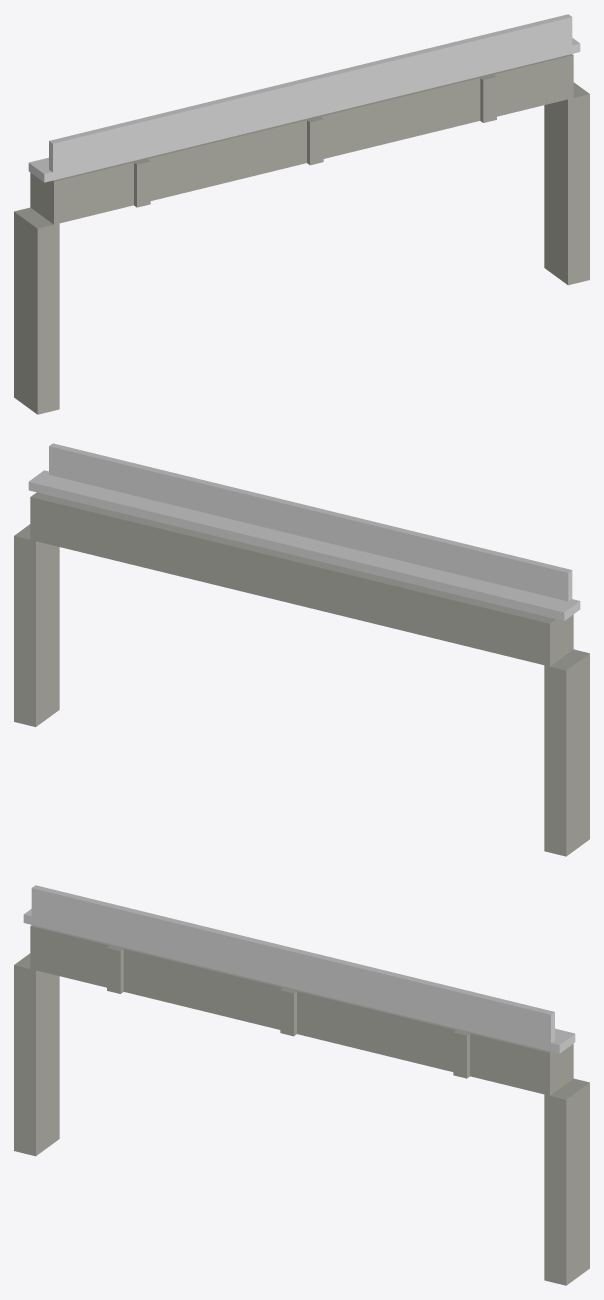
File: SM_MuroTrinchera_Boca_v1_Pilotes_LOD1.fbx
3 views of the same model, one above another, from view 1: azimuth 30°, elevation 25°; view 2: azimuth 150°, elevation 25°; view 3: azimuth 330°, elevation 25° (orthographic).
Visible parts, largest first — view 1: SM_muro_trinchera_v6_LOD1; view 2: SM_muro_trinchera_v6_LOD1; view 3: SM_muro_trinchera_v6_LOD1.
Boxes of the visible parts, box(x1,y1,x2,y2) form: SM_muro_trinchera_v6_LOD1: box(14, 14, 589, 414); SM_muro_trinchera_v6_LOD1: box(14, 443, 589, 856); SM_muro_trinchera_v6_LOD1: box(14, 885, 589, 1285).
Size of the model in its own units: 20.2 by 9.3 by 1.7.
